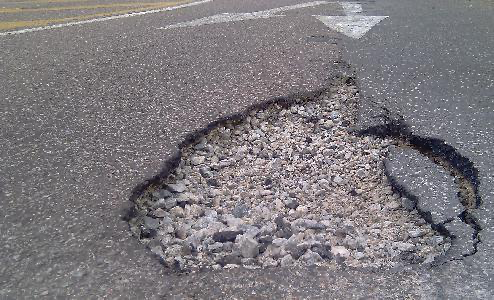pothole: (118, 66, 485, 276)
